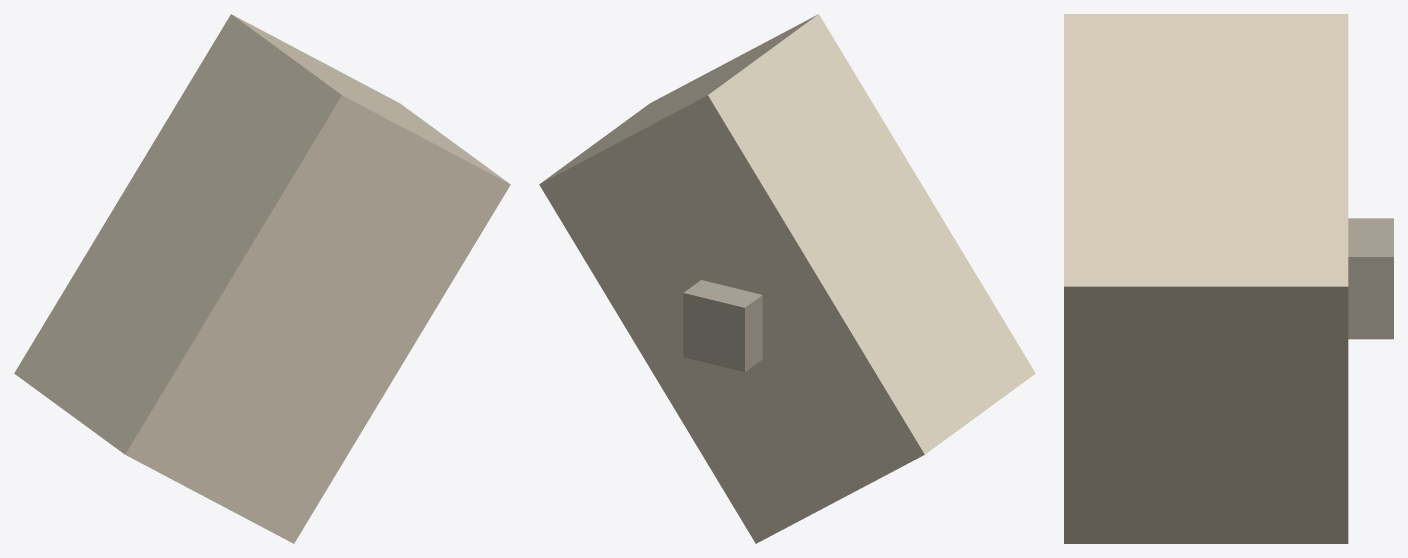
The model's file is historic-palestine-11_21_3528_3152.glb.
3 views of the same model, side by side, from view 1: azimuth 30°, elevation 25°; view 2: azimuth 150°, elevation 25°; view 3: azimuth 270°, elevation 25° (orthographic). The views are drawn at different scales.
Parts seen in each view (by area): view 1: Building_; view 2: Building_, Roof access hut; view 3: Building_, Roof access hut.
Boxes of the visible parts, <box> form: Building_: <box>14,14,510,543</box>; Building_: <box>539,14,1035,543</box>; Roof access hut: <box>683,280,762,372</box>; Building_: <box>1064,14,1348,543</box>; Roof access hut: <box>1348,218,1393,339</box>.
Size of the model in its own units: 15.05 by 16.3 by 8.7.
